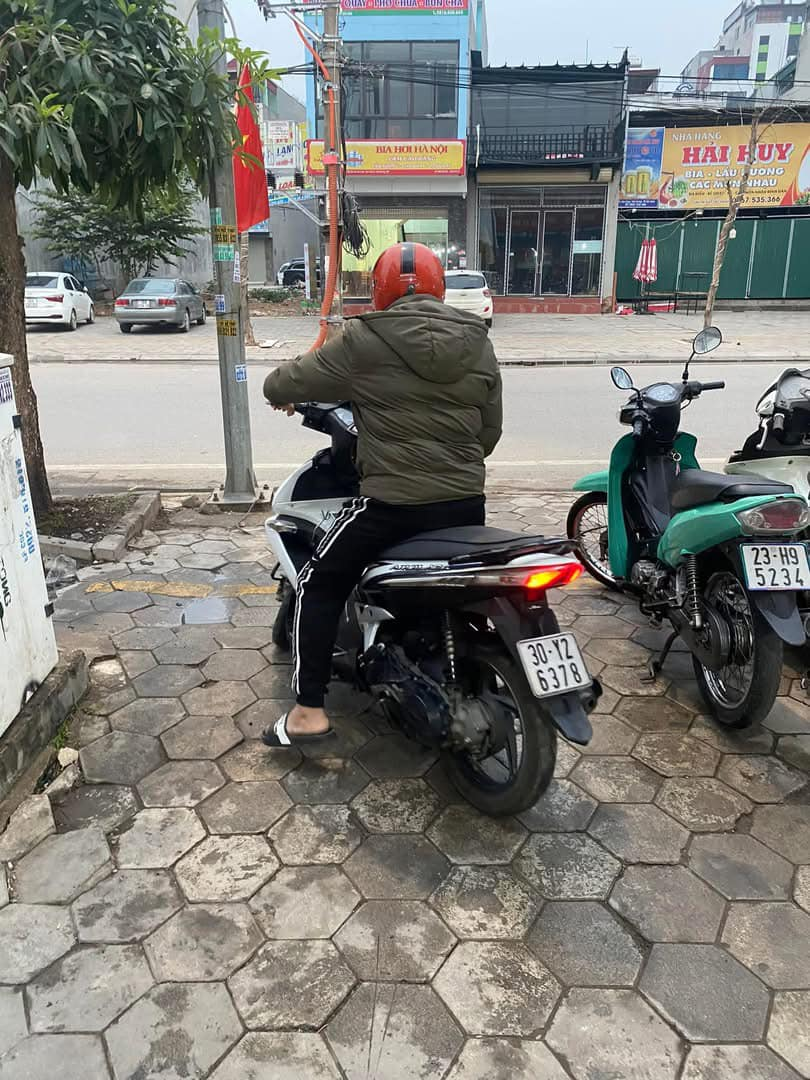bien_so: (510, 626, 603, 702), (733, 535, 810, 594)
